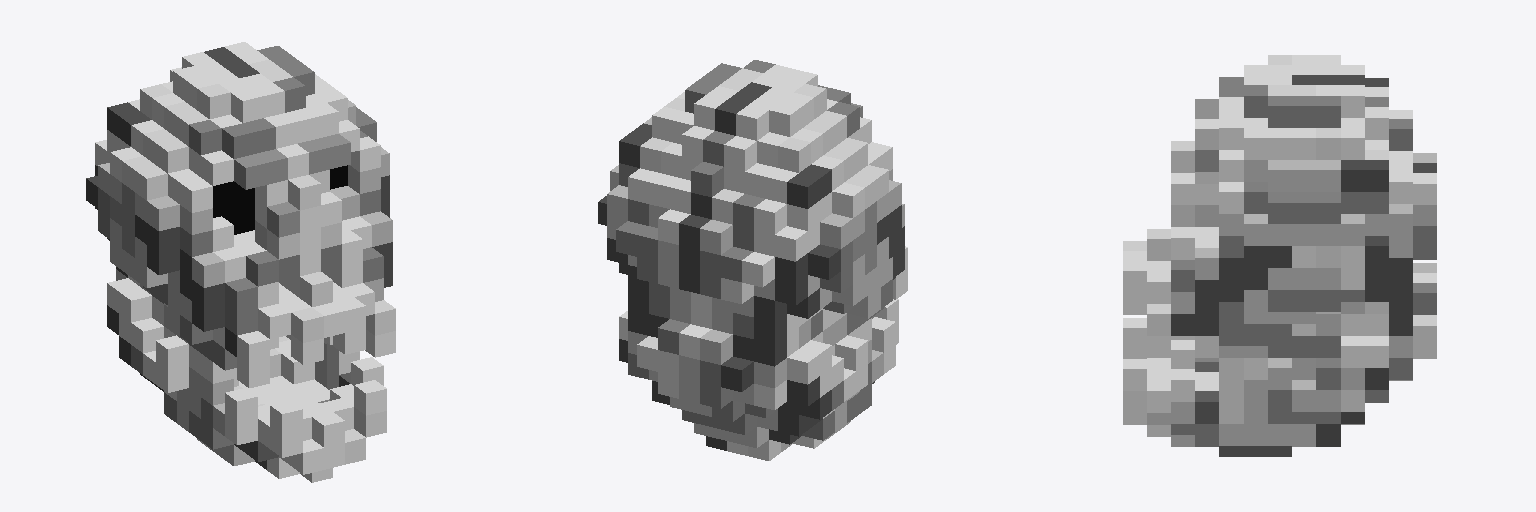
3 renders of one model, left to right at view 1: azimuth 30°, elevation 25°; view 2: azimuth 150°, elevation 25°; view 3: azimuth 270°, elevation 25°, orthographic.
Bounding box in the file's own units: 11 × 16 × 13.
Materials: 1 (1 with a texture image).